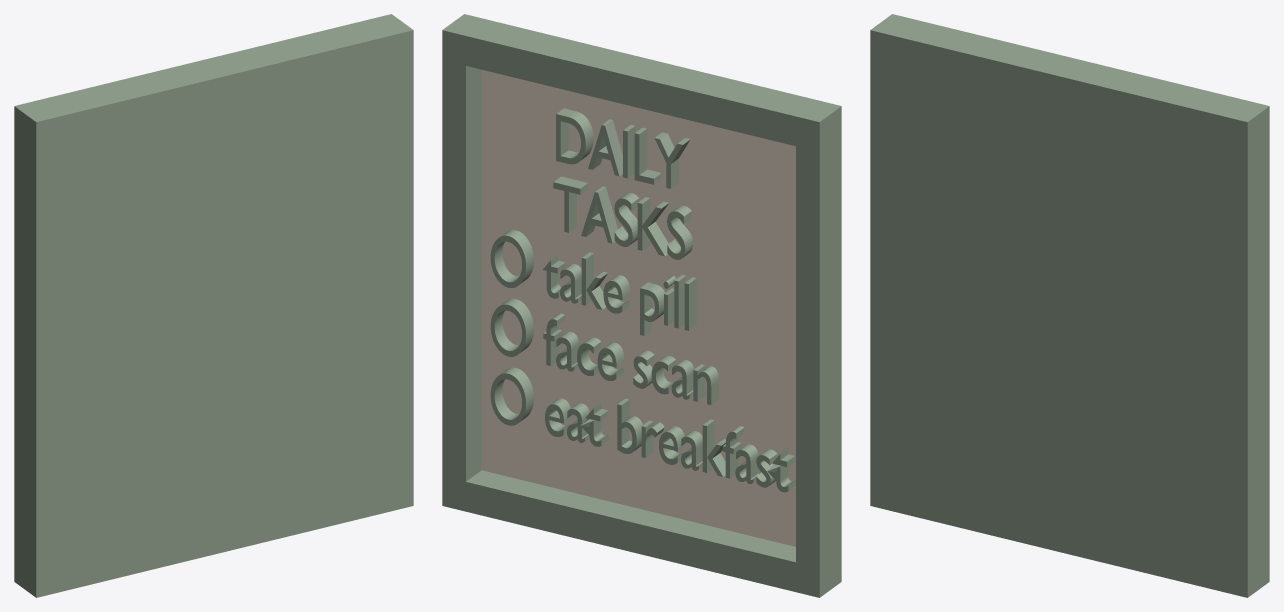
The model's file is DailyTaskNew.fbx.
3 views of the same model, side by side, from view 1: azimuth 30°, elevation 25°; view 2: azimuth 150°, elevation 25°; view 3: azimuth 330°, elevation 25° (orthographic).
Visible parts, largest first — view 1: Cube; view 2: Cube, Text; view 3: Cube.
Boxes of the visible parts, x1,y1,x2,y2 form: Cube: (14,14,413,597); Cube: (442,14,841,597); Text: (490,108,795,492); Cube: (870,14,1269,597).
Bounding box in the file's own units: 94.82 × 114 × 10.17.
